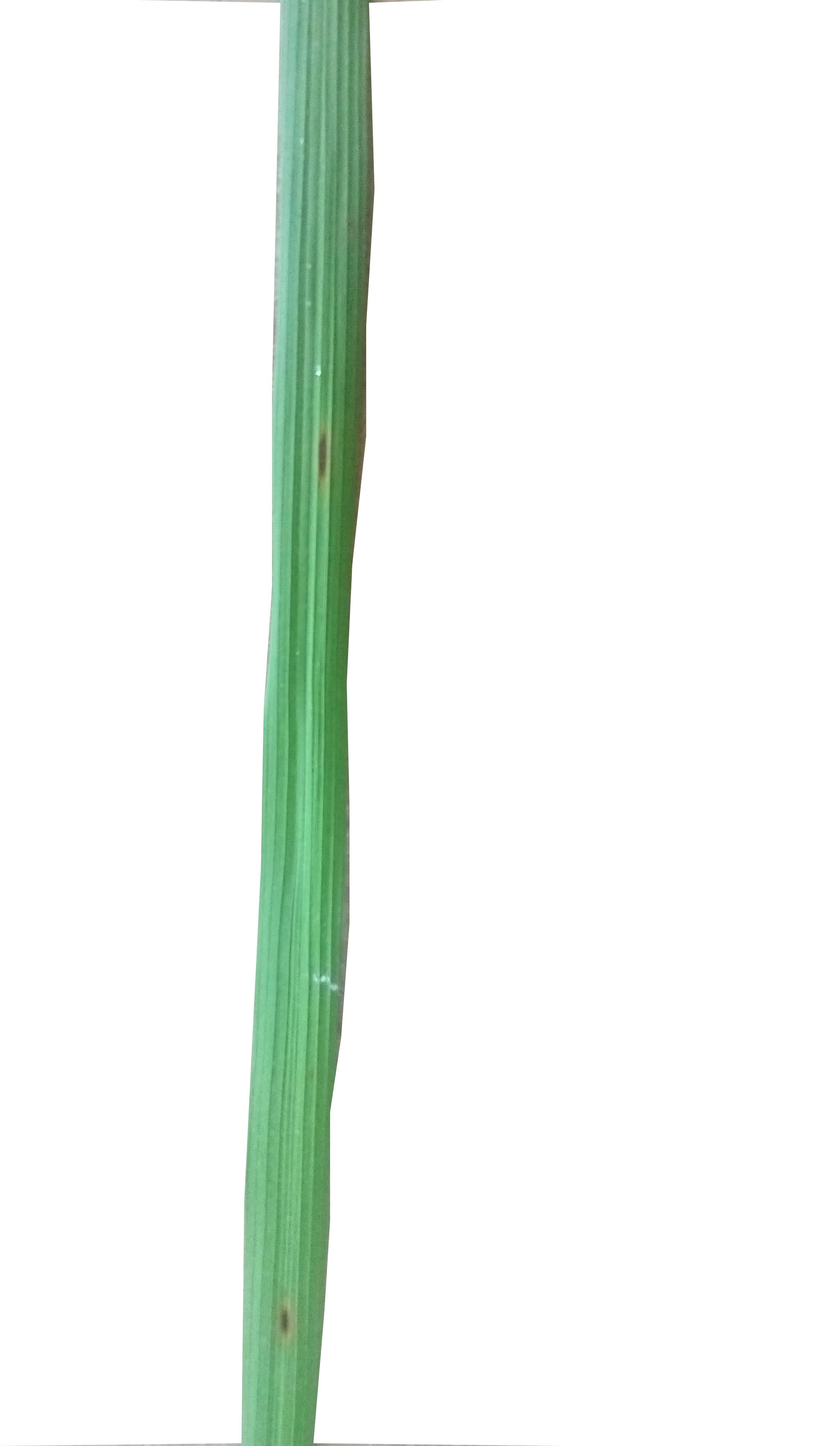Brown spot: (295, 428, 361, 490)
